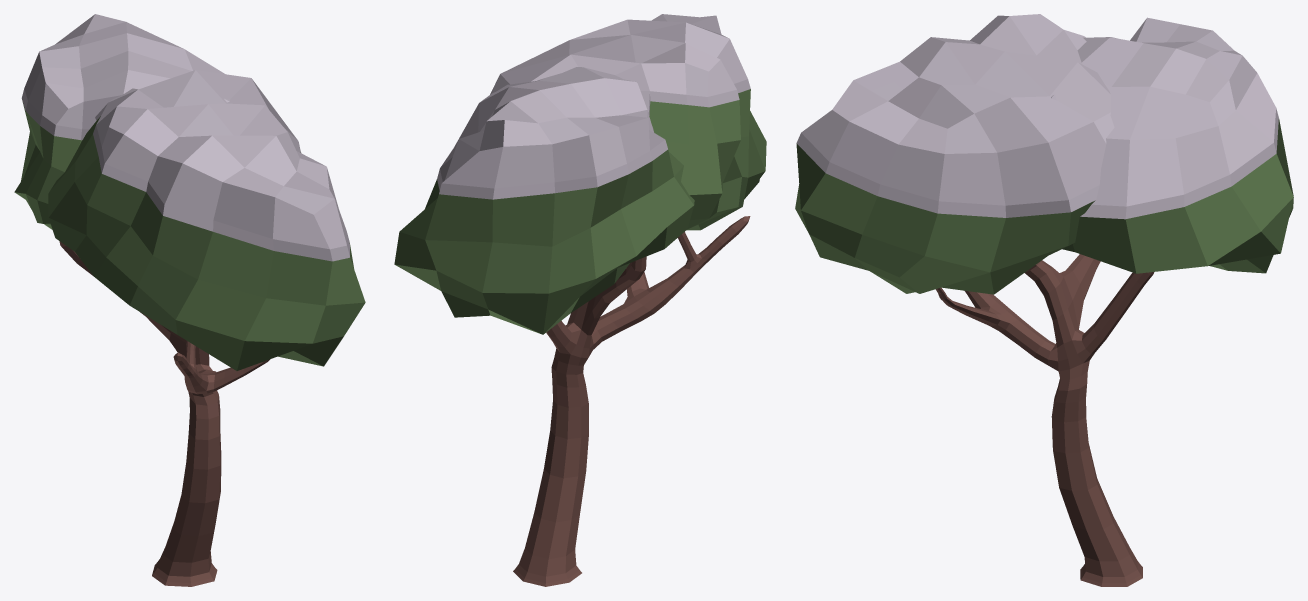
The model's file is CommonTree_Snow_5.glb.
The picture shows the model from 3 angles, left to right: view 1: azimuth 30°, elevation 25°; view 2: azimuth 150°, elevation 25°; view 3: azimuth 270°, elevation 25°; orthographic projection. The views are drawn at different scales.
Visible parts, largest first — view 1: CommonTree_Snow_5; view 2: CommonTree_Snow_5; view 3: CommonTree_Snow_5.
Part boxes in pixels (x1,y1,x2,y2): CommonTree_Snow_5: (14,14,365,586); CommonTree_Snow_5: (394,14,766,586); CommonTree_Snow_5: (795,14,1293,586).
Size of the model in its own units: 1.29 by 2.57 by 2.25.
